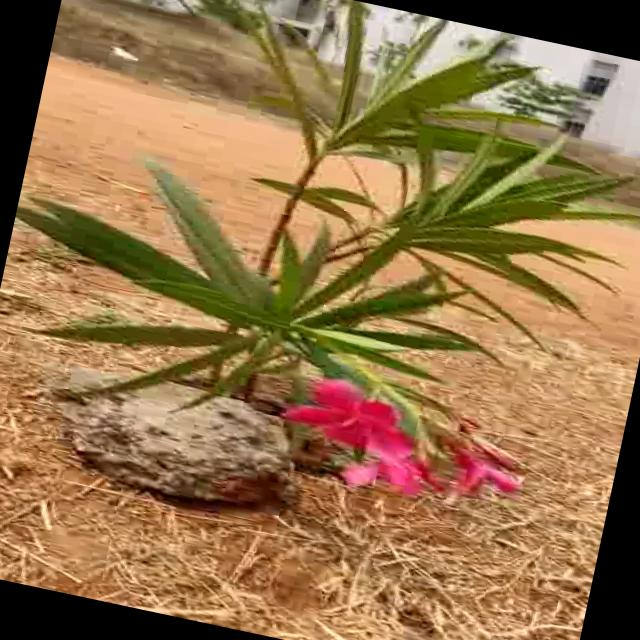Oleander: (126, 0, 640, 478)
